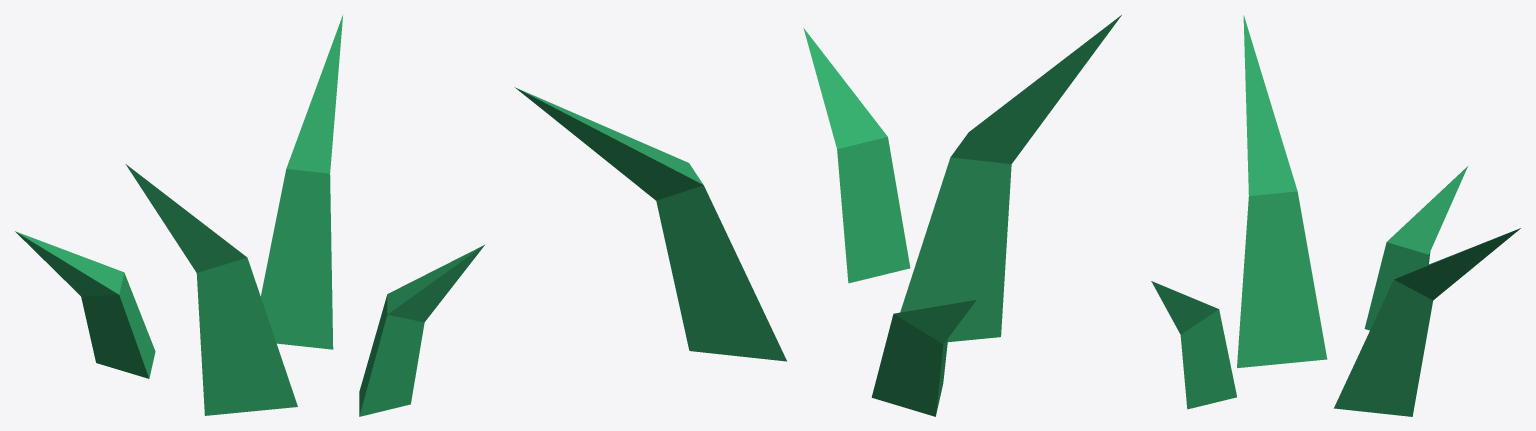
Rendered from grass1.glb.
3 views of the same model, side by side, from view 1: azimuth 30°, elevation 25°; view 2: azimuth 150°, elevation 25°; view 3: azimuth 270°, elevation 25° (orthographic). The views are drawn at different scales.
Visible parts, largest first — view 1: Circle012_Grass_0; view 2: Circle012_Grass_0; view 3: Circle012_Grass_0.
Boxes of the visible parts, x1,y1,x2,y2 form: Circle012_Grass_0: [15, 14, 484, 416]; Circle012_Grass_0: [514, 15, 1121, 416]; Circle012_Grass_0: [1151, 15, 1520, 416].
Size of the model in its own units: 12.15 by 9.07 by 11.13.
